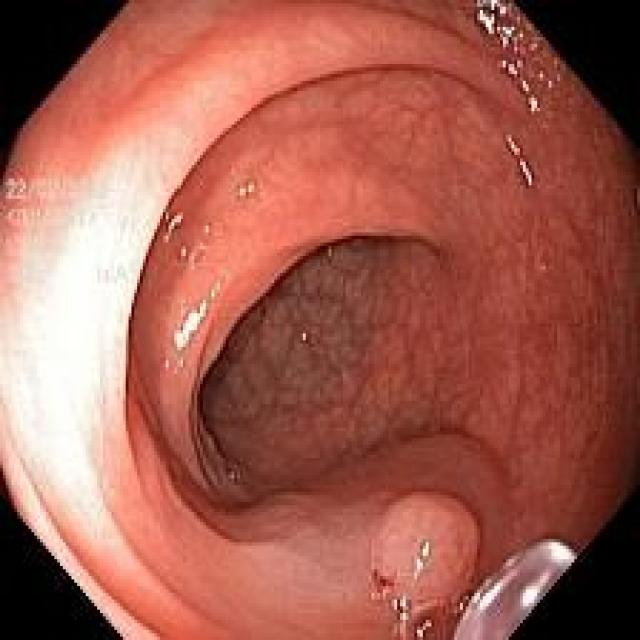Polyps: (371, 492, 479, 640)
